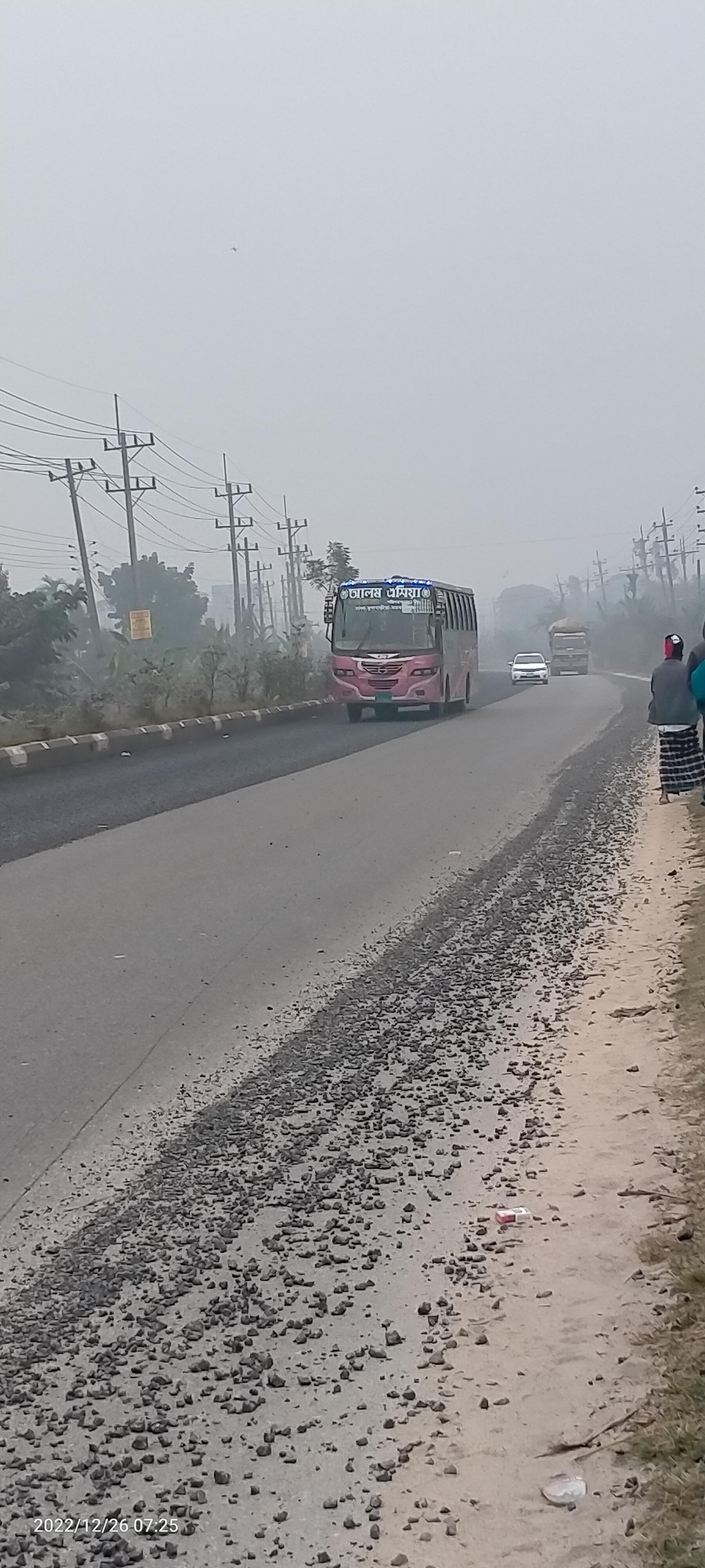Bus: (316, 562, 493, 738)
Car: (504, 643, 555, 697)
Truck: (546, 608, 594, 696)
